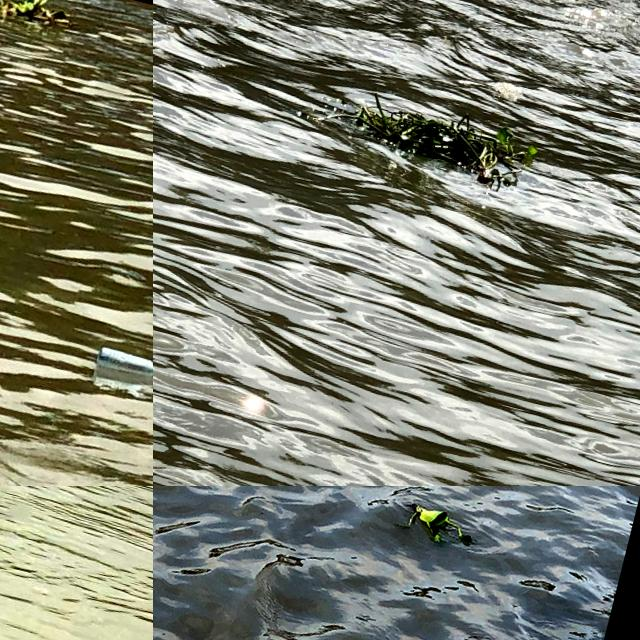plastic bottle: (96, 348, 152, 379)
water-hyacinth: (317, 71, 540, 191), (396, 500, 473, 546), (1, 1, 81, 39)
